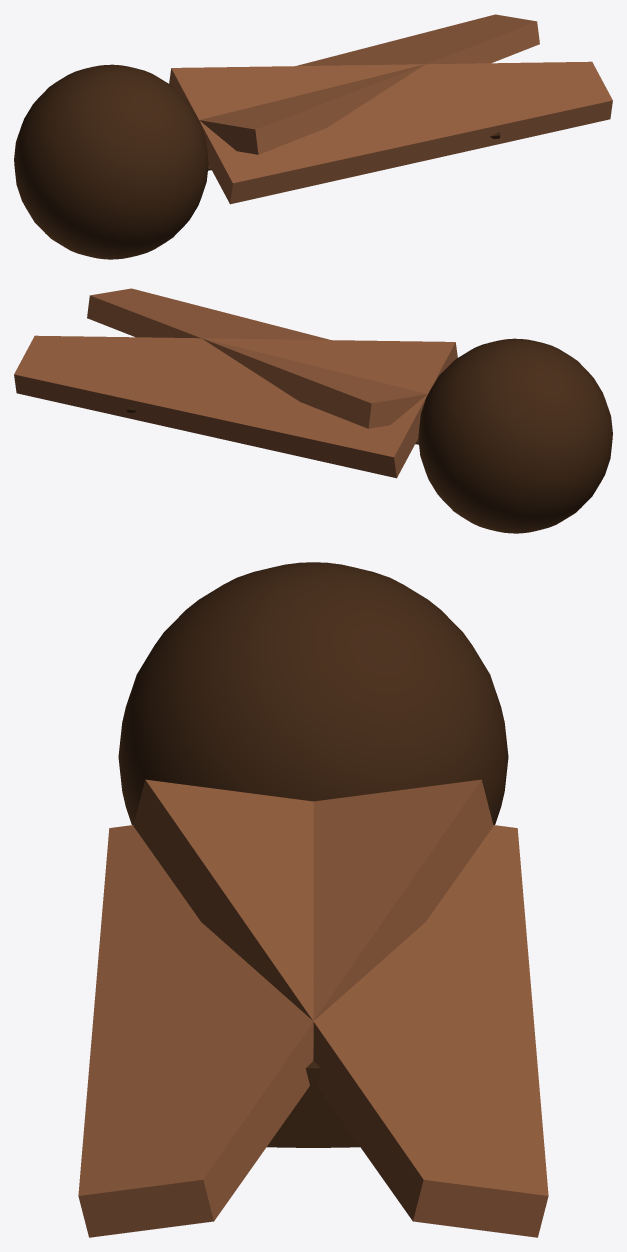
Rendered from MothSmall.fbx.
The picture shows the model from 3 angles, top to bottom: view 1: azimuth 30°, elevation 25°; view 2: azimuth 150°, elevation 25°; view 3: azimuth 270°, elevation 25°; orthographic projection. The views are drawn at different scales.
Visible parts, largest first — view 1: Cube, Sphere; view 2: Cube, Sphere; view 3: Cube, Sphere, Cone.
Part boxes in pixels (x1,y1,x2,y2): Cube: [169, 14, 612, 204]; Sphere: [14, 64, 208, 259]; Cube: [14, 288, 457, 478]; Sphere: [418, 338, 612, 533]; Cube: [78, 779, 548, 1237]; Sphere: [118, 562, 508, 824]; Cone: [267, 1061, 359, 1147].
Bounding box in the file's own units: 292 × 91.71 × 111.
